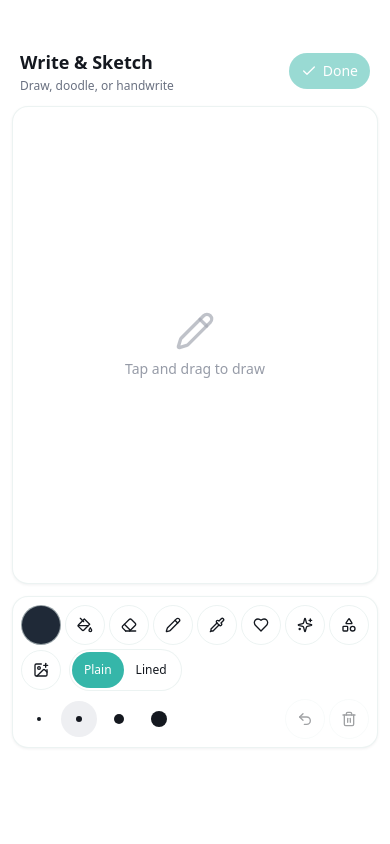
Test case: SketchPage - tools and controls › toggles paper style when Lined is clicked
This screenshot has width=390, height=844.
Click the button "Lined". click: (151, 670)
box: [124,652,179,688]
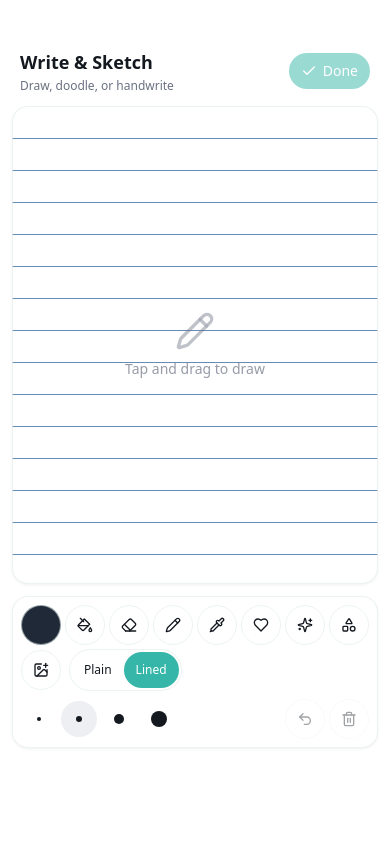
Now the button "Lined" is pressed, box [124,652,179,688]
